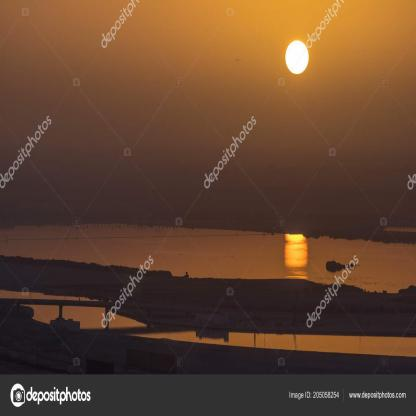other: (283, 220, 323, 284), (283, 28, 315, 86)
